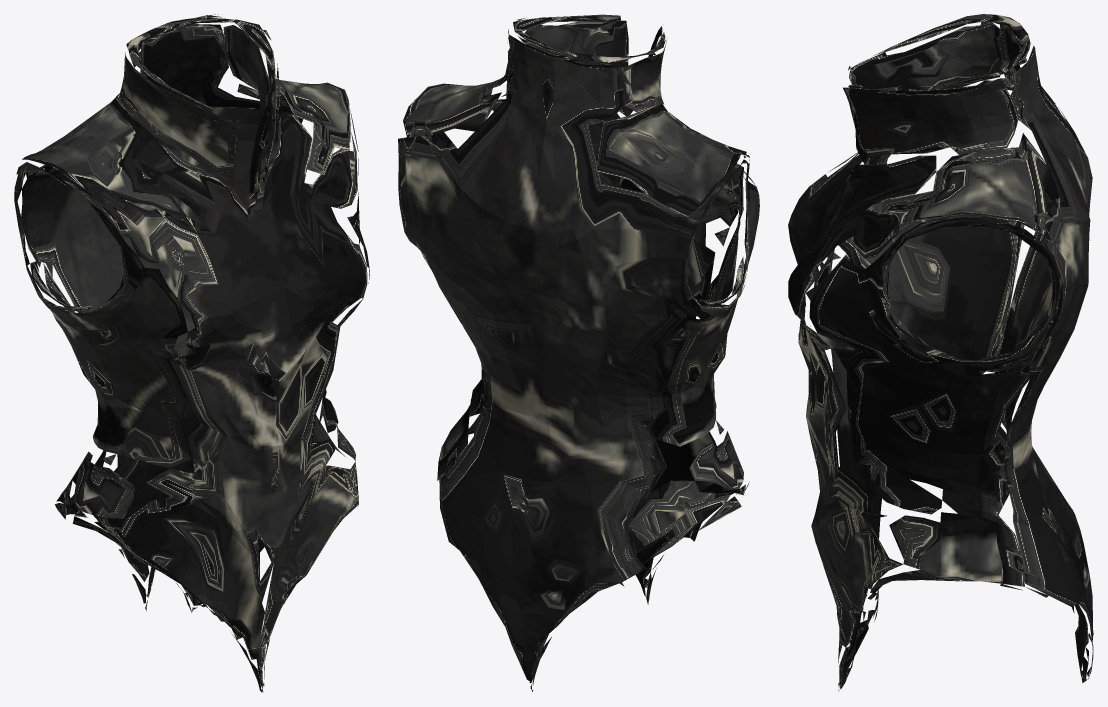
Rendered from dark-court-breastplate-pixelated.glb.
3 renders of one model, left to right at view 1: azimuth 30°, elevation 25°; view 2: azimuth 150°, elevation 25°; view 3: azimuth 270°, elevation 25°, orthographic. The views are drawn at different scales.
Parts seen in each view (by area): view 1: mesh; view 2: mesh; view 3: mesh.
Part boxes in pixels (x1=…): mesh: x1=14, y1=14, x2=369, y2=692; mesh: x1=398, y1=14, x2=759, y2=691; mesh: x1=788, y1=14, x2=1093, y2=691.
Bounding box in the file's own units: 1.05 × 1.98 × 0.845.
1 material, 1 textured.
